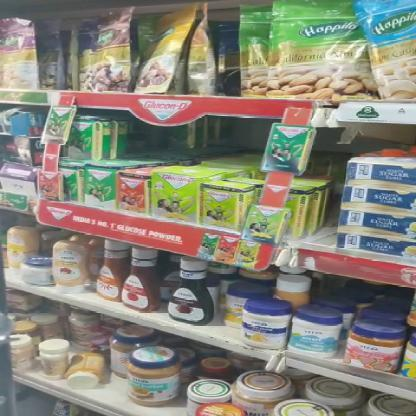Glucon D Nimbu Pani 1-KG: (149, 170, 201, 226), (198, 190, 238, 232)
Glucon D Regular 1-KG: (79, 172, 112, 212)
Glucon D Tangy orange 1-KG: (112, 174, 148, 218)
